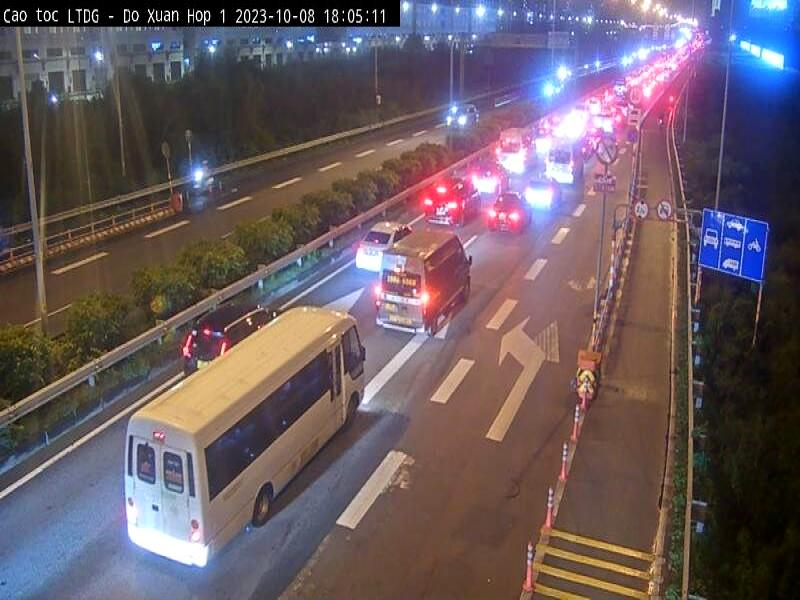bus: (125, 306, 366, 564)
car: (374, 230, 474, 338), (179, 305, 284, 374), (354, 218, 416, 276), (426, 173, 482, 225), (546, 138, 585, 187), (497, 128, 538, 174), (491, 185, 533, 228), (524, 174, 562, 214), (496, 125, 496, 126)
